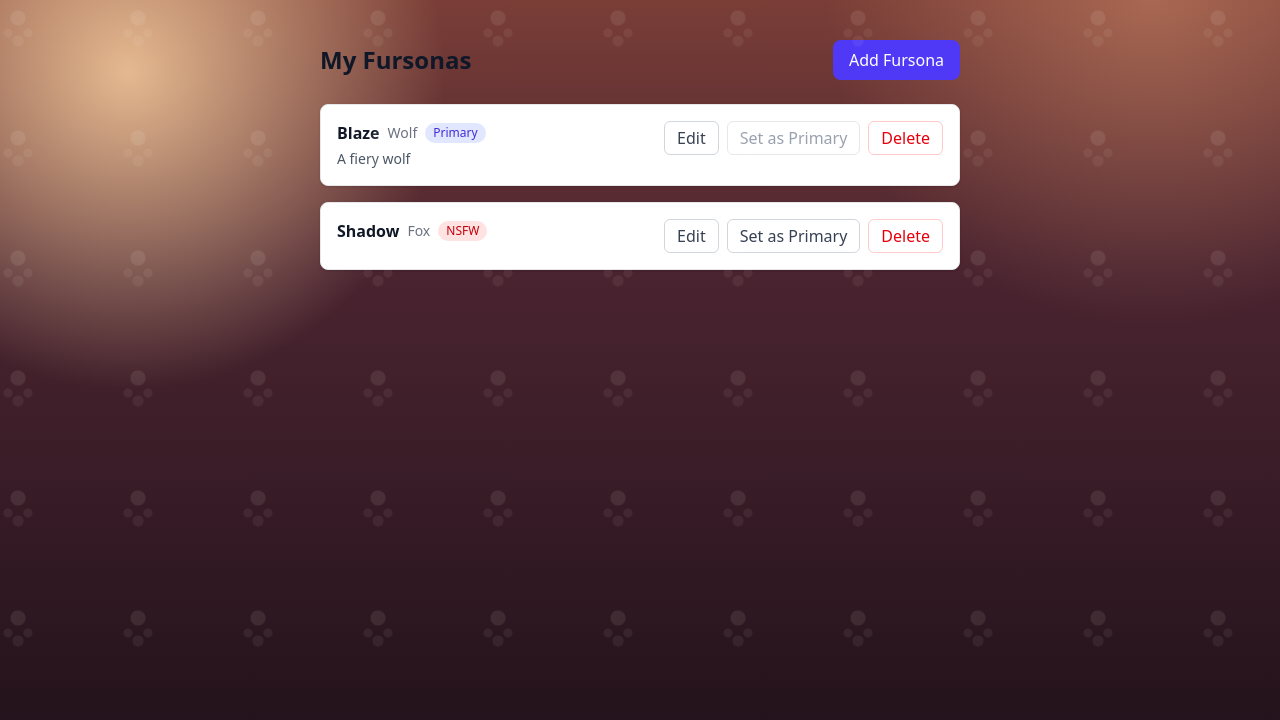
Test: FursonaManagerPage › opens the create form from the add fursona button
The image size is (1280, 720).
Click the button "Add Fursona": {"x": 896, "y": 60} [833,40,960,80]
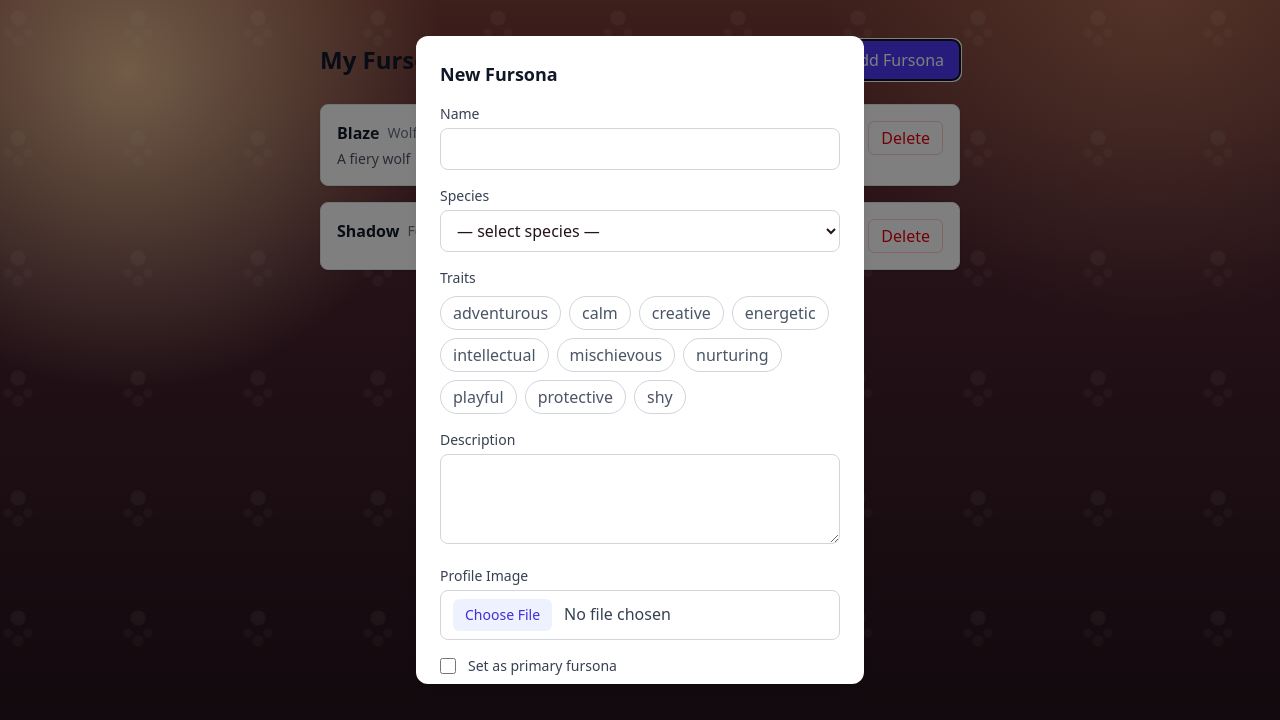
Expected: the dialog is shown
Expected: the heading "New Fursona" is shown, [440,62,558,86]
